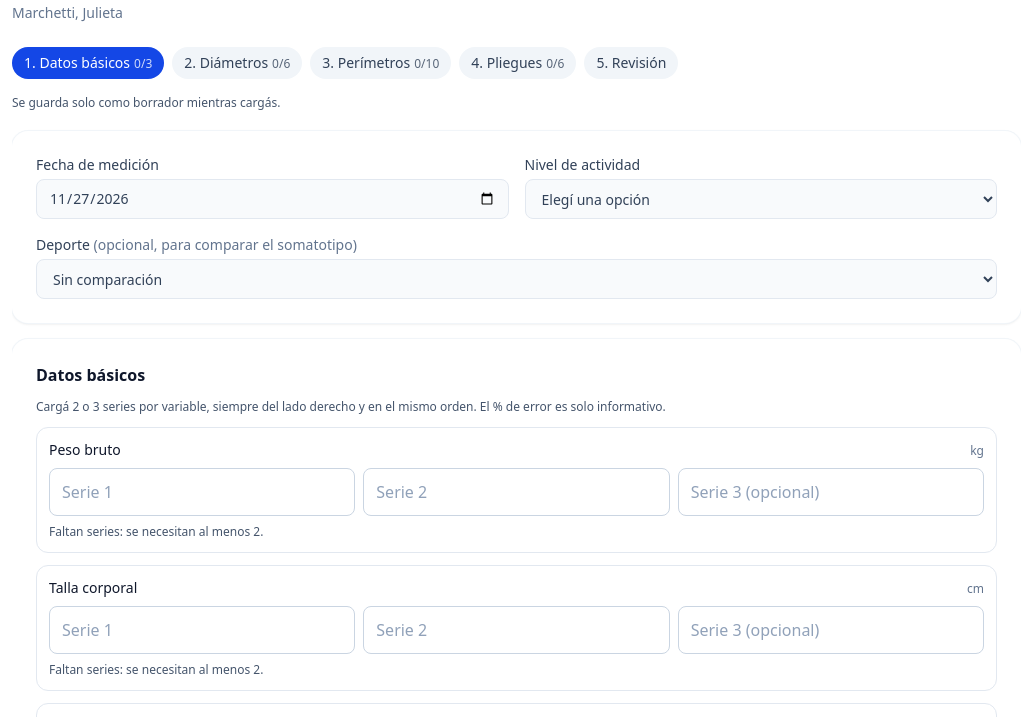
Test: asistente — datos que llegan desde el servidor › una medición nueva arranca con "Mis instrumentos" y con el usuario como quien midió
Click the button "5. Revisión": (631, 63) [584,47,678,79]
(page scrolled)
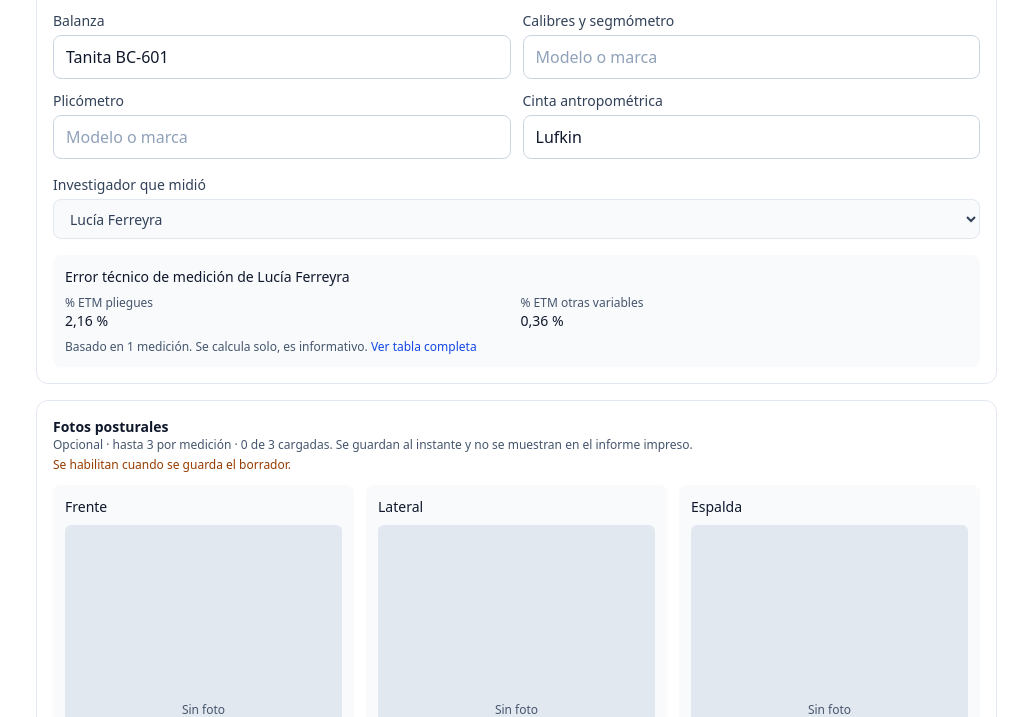
Now the field labelled "Balanza" holds "Tanita BC-601", box [53,35,510,79]
Now the field labelled "Cinta antropométrica" holds "Lufkin", box [522,115,980,159]
Now the dropdown labelled "Investigador que midió" shows "Lucía Ferreyra", box [53,199,980,239]
